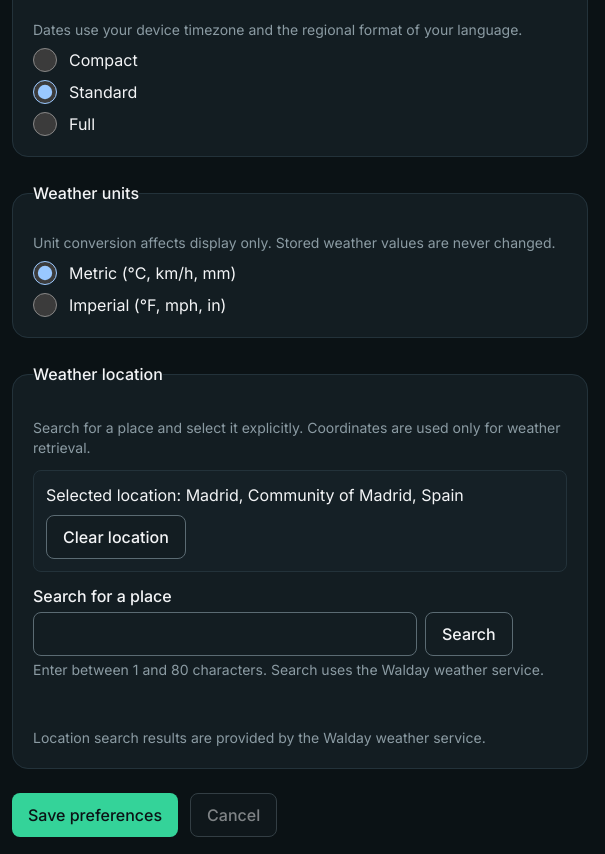
weather location selection (US5) › displays and clears a saved location without the resolver or network
(page scrolled)
Expected: the text "Selected location: Madrid, Community of Madrid, Spain" is shown, [46,485,464,505]
Click the button "Clear location" at [116, 537], box [46,515,186,559]
(page scrolled)
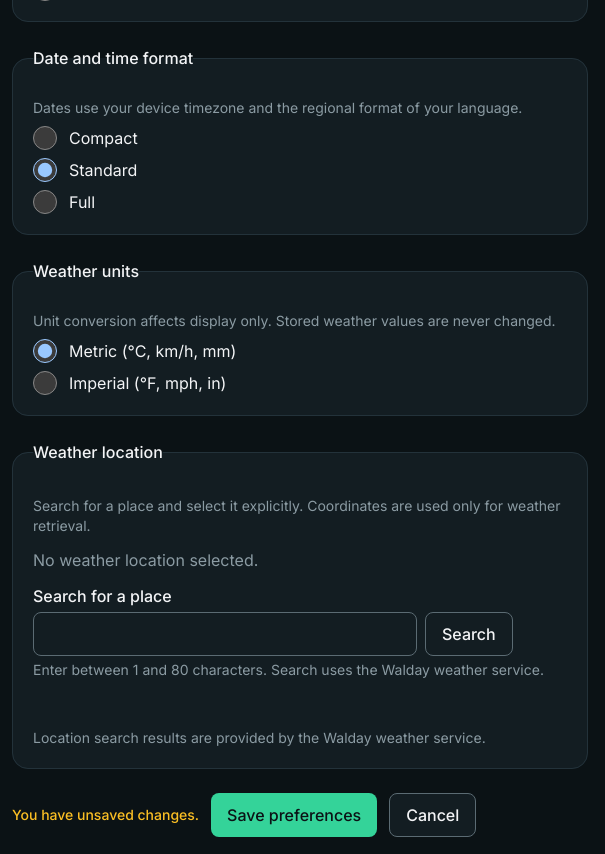
Expected: the text "No weather location selected." is shown, [33,550,258,570]
